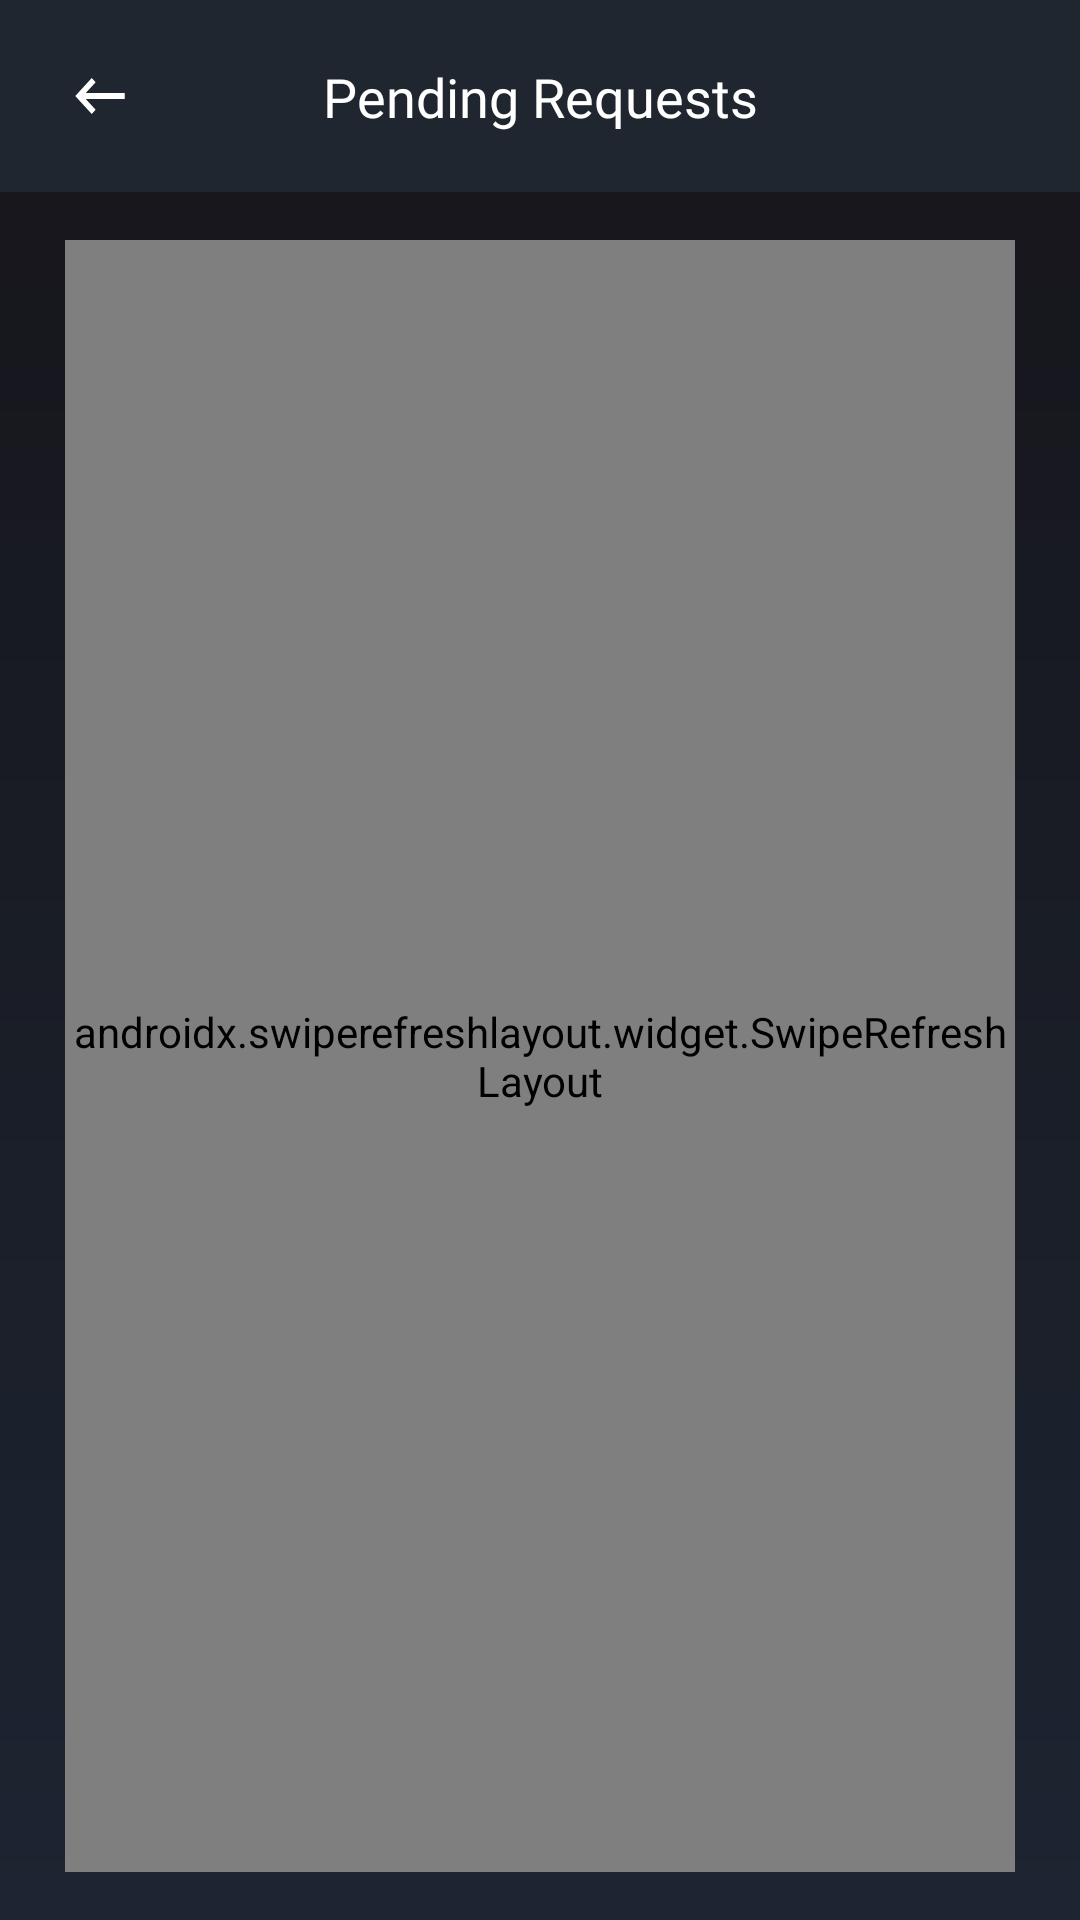

Screen size 1080w x 1920h. Icon name, then its box in pixels as {"x1": x1, "y1": y1, "x2": x2, "y2": y2}:
Back: {"x1": 75, "y1": 78, "x2": 125, "y2": 114}
